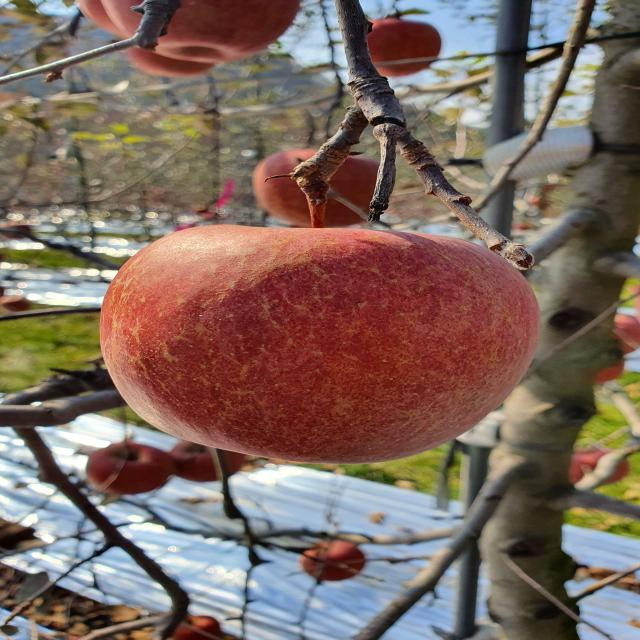fresh: (81, 216, 552, 469)
